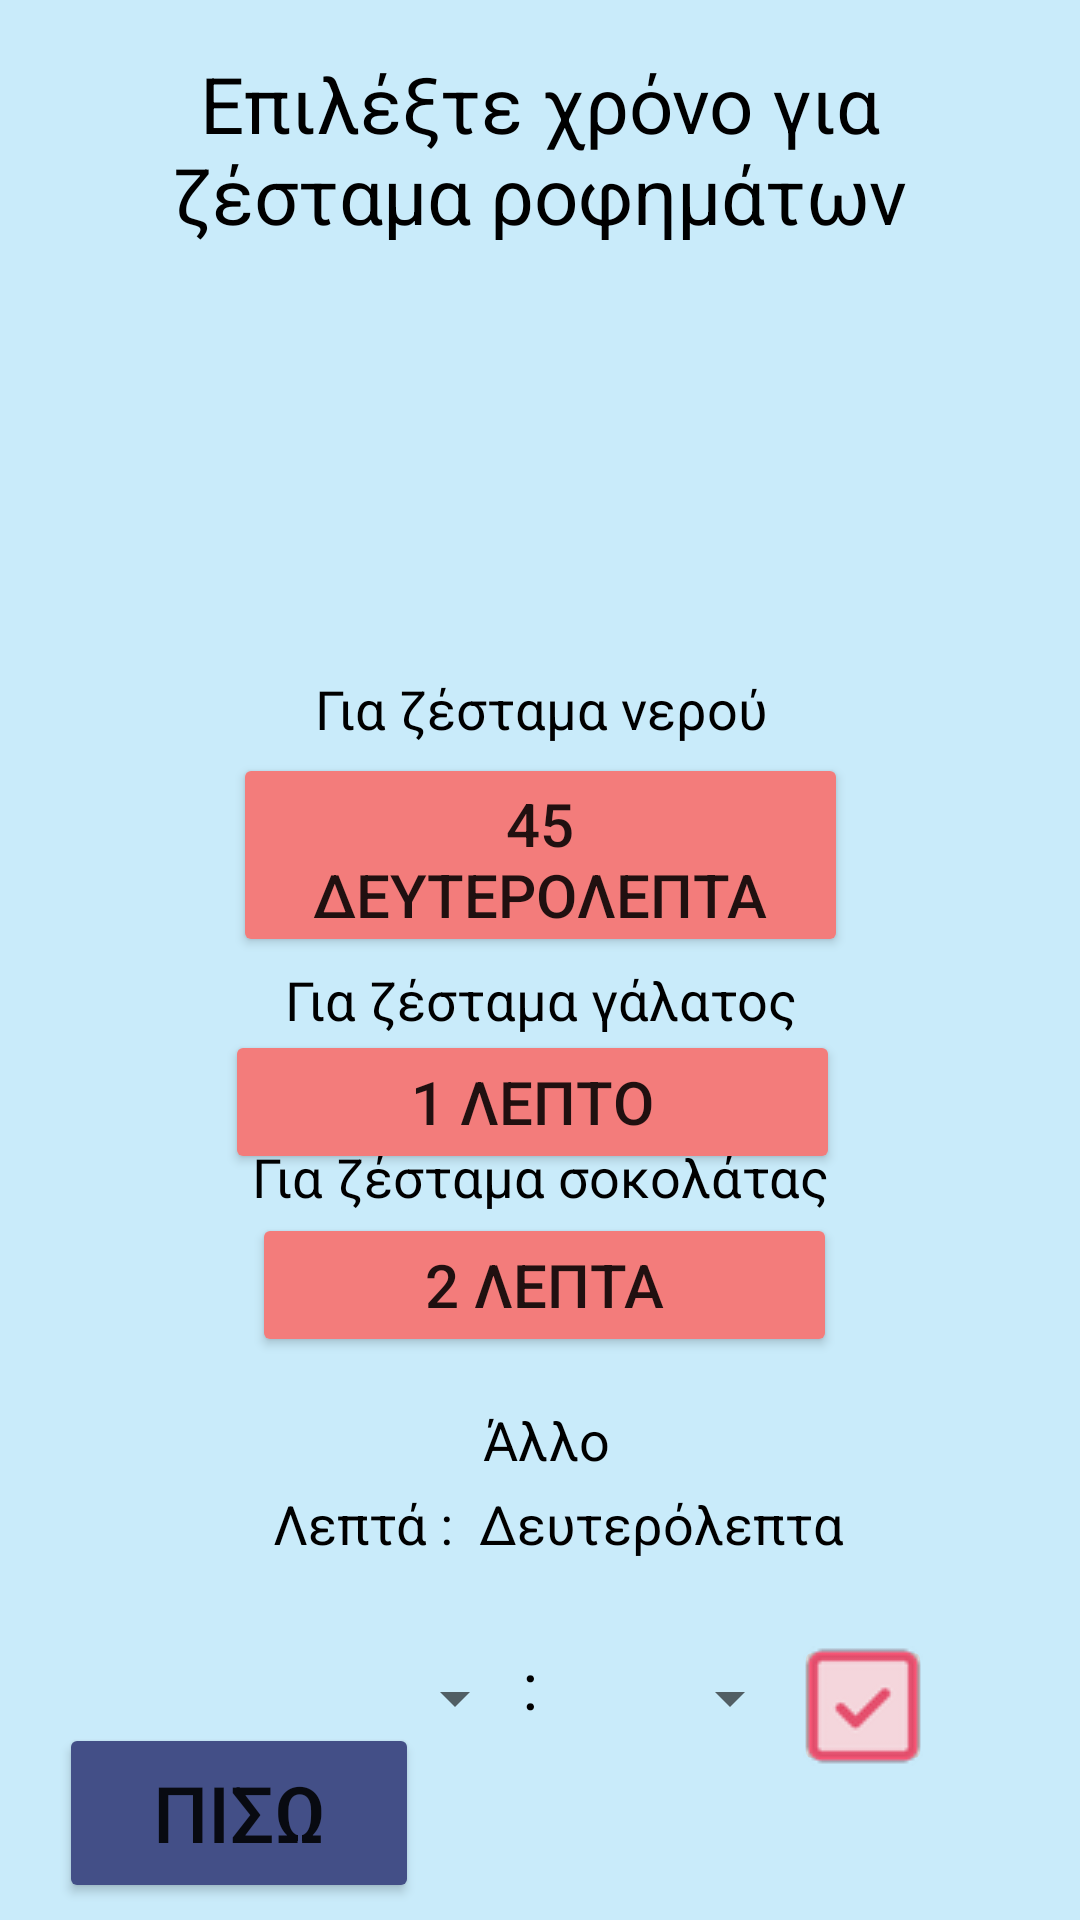

Screen size 1080×1920. Icon name, then its center in pixels as (x,y):
tick: (863,1706)
